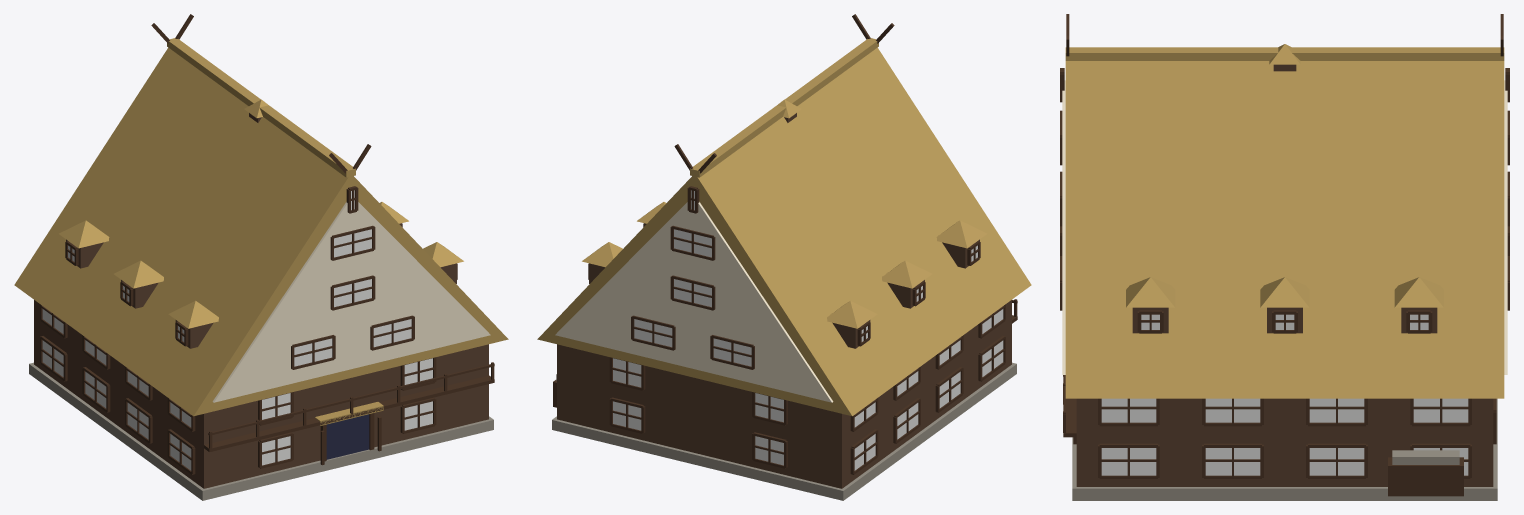
The model's file is house-2x2-5f-gassho-a.glb.
3 views of the same model, side by side, from view 1: azimuth 30°, elevation 25°; view 2: azimuth 150°, elevation 25°; view 3: azimuth 270°, elevation 25° (orthographic). The views are drawn at different scales.
Parts seen in each view (by area): view 1: house-2x2-5f-gassho-a; view 2: house-2x2-5f-gassho-a; view 3: house-2x2-5f-gassho-a.
Part boxes in pixels (x1,y1,x2,y2): house-2x2-5f-gassho-a: (14, 14, 508, 500); house-2x2-5f-gassho-a: (537, 14, 1031, 500); house-2x2-5f-gassho-a: (1060, 14, 1509, 500).
Size of the model in its own units: 2 by 1.92 by 2.01.
1 material, 1 textured.
